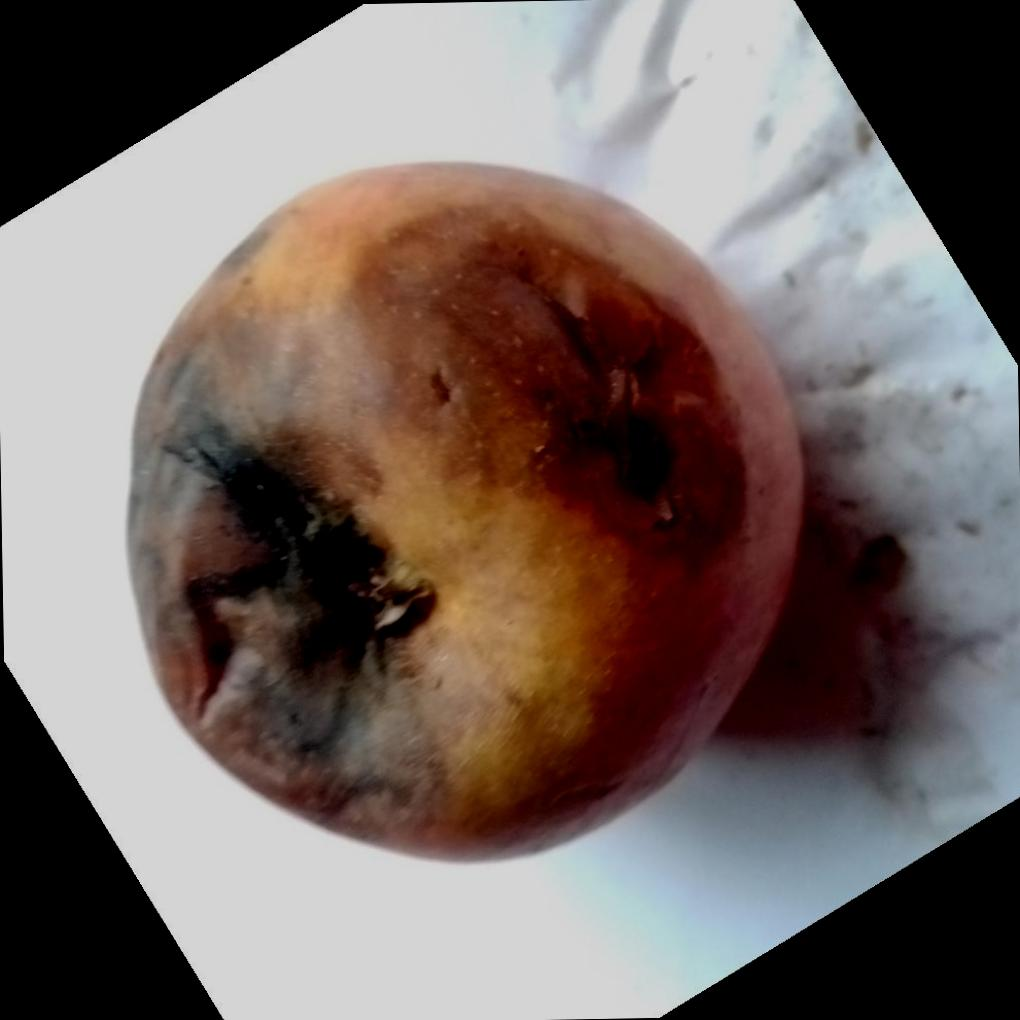FreshOrange: (120, 155, 806, 860)
